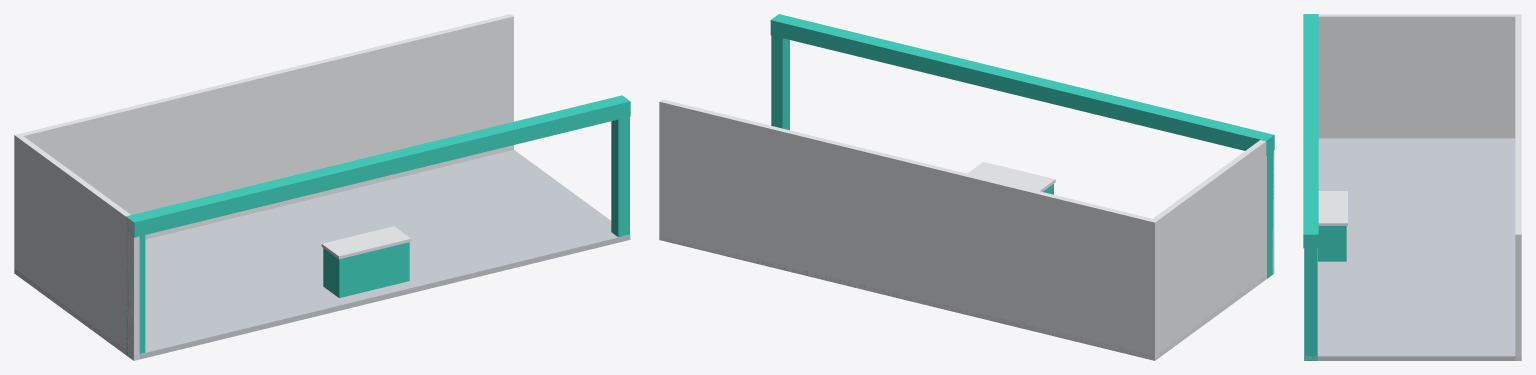
3 renders of one model, left to right at view 1: azimuth 30°, elevation 25°; view 2: azimuth 150°, elevation 25°; view 3: azimuth 270°, elevation 25°, orthographic. The views are drawn at different scales.
Parts seen in each view (by area): view 1: Exhibition Booth Concept; view 2: Exhibition Booth Concept; view 3: Exhibition Booth Concept.
Part boxes in pixels (<box>): Exhibition Booth Concept: <box>14,14,630,360</box>; Exhibition Booth Concept: <box>659,14,1274,360</box>; Exhibition Booth Concept: <box>1303,14,1521,360</box>.
Size of the model in its own units: 12 by 3.2 by 5.02.
